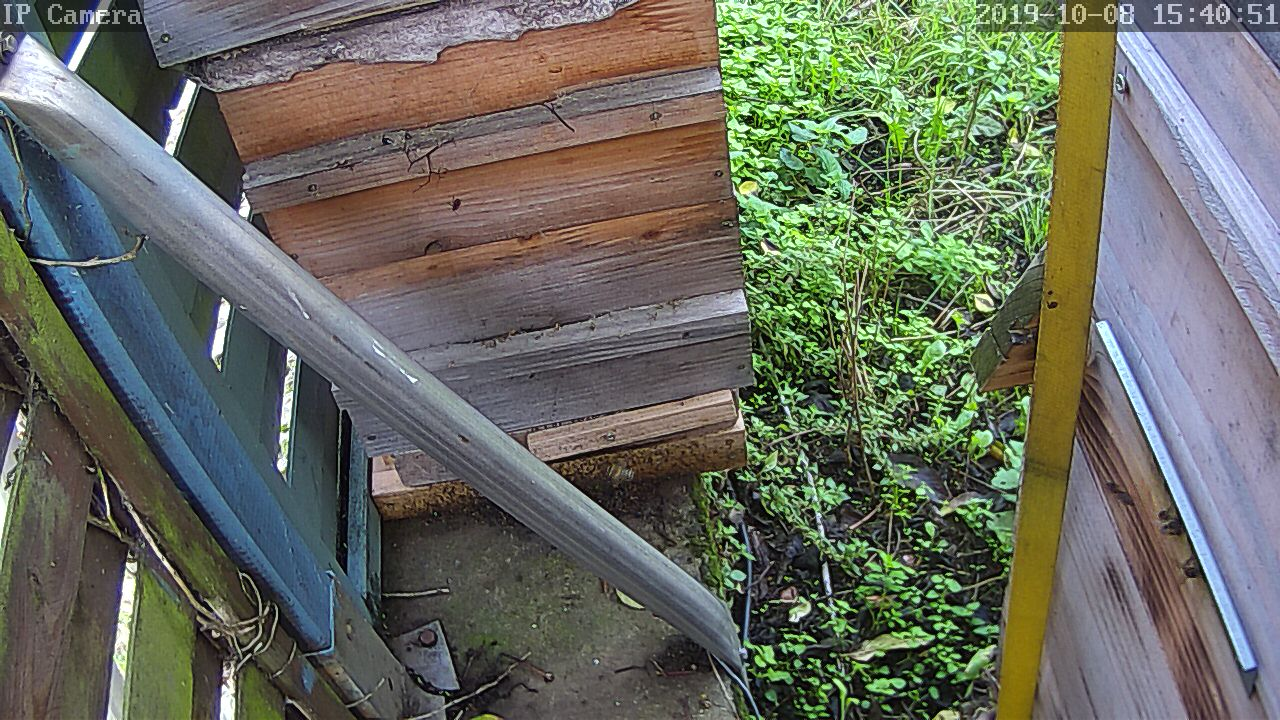bee: (1100, 479, 1135, 512), (1153, 506, 1184, 539), (1174, 553, 1205, 584)
